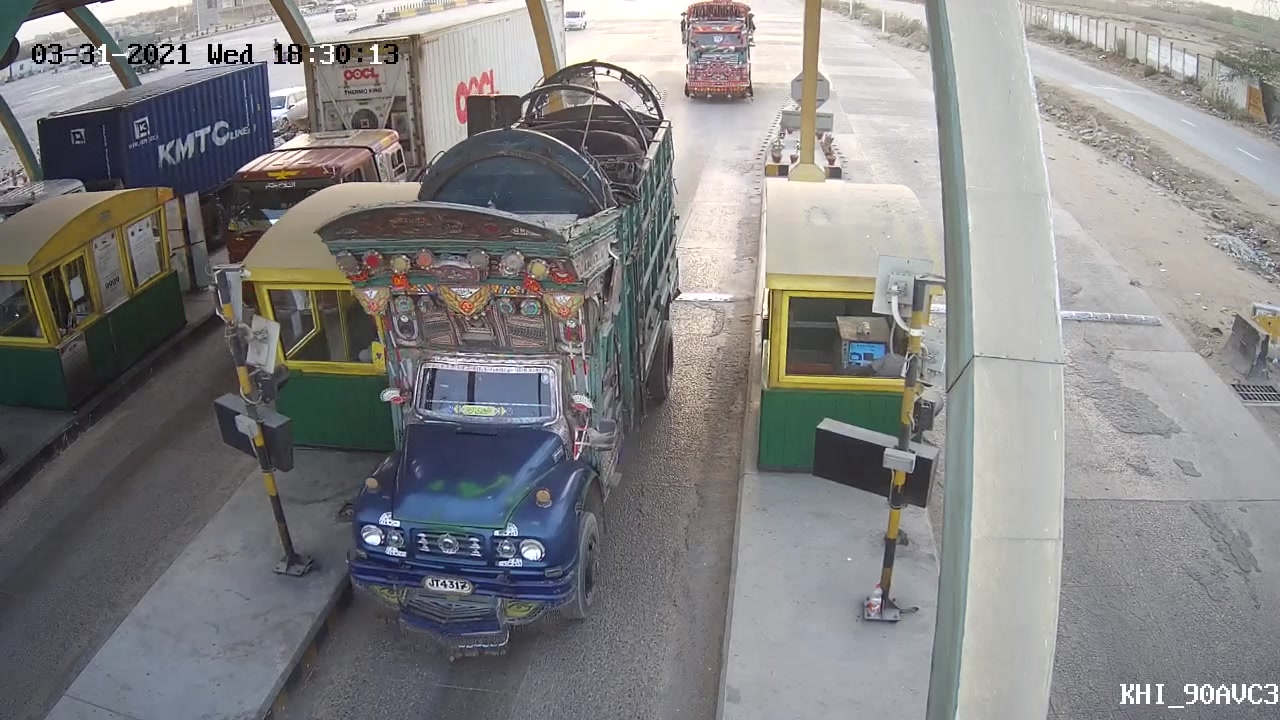F5: (346, 53, 680, 648)
